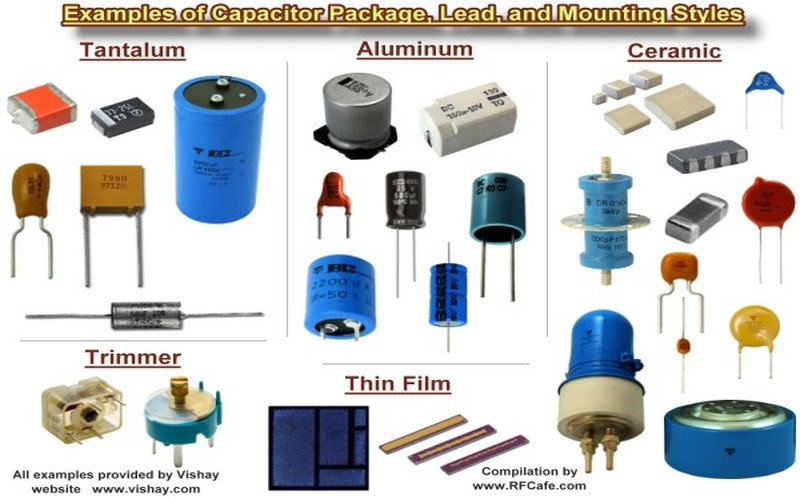Capacitor: (542, 51, 800, 483), (8, 56, 269, 331), (304, 55, 534, 358), (253, 381, 530, 500), (29, 368, 234, 461)
